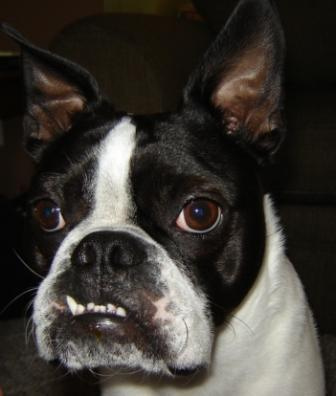dog: (2, 1, 329, 396)
